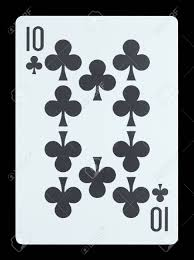ten of clubs: (16, 16, 179, 245)
